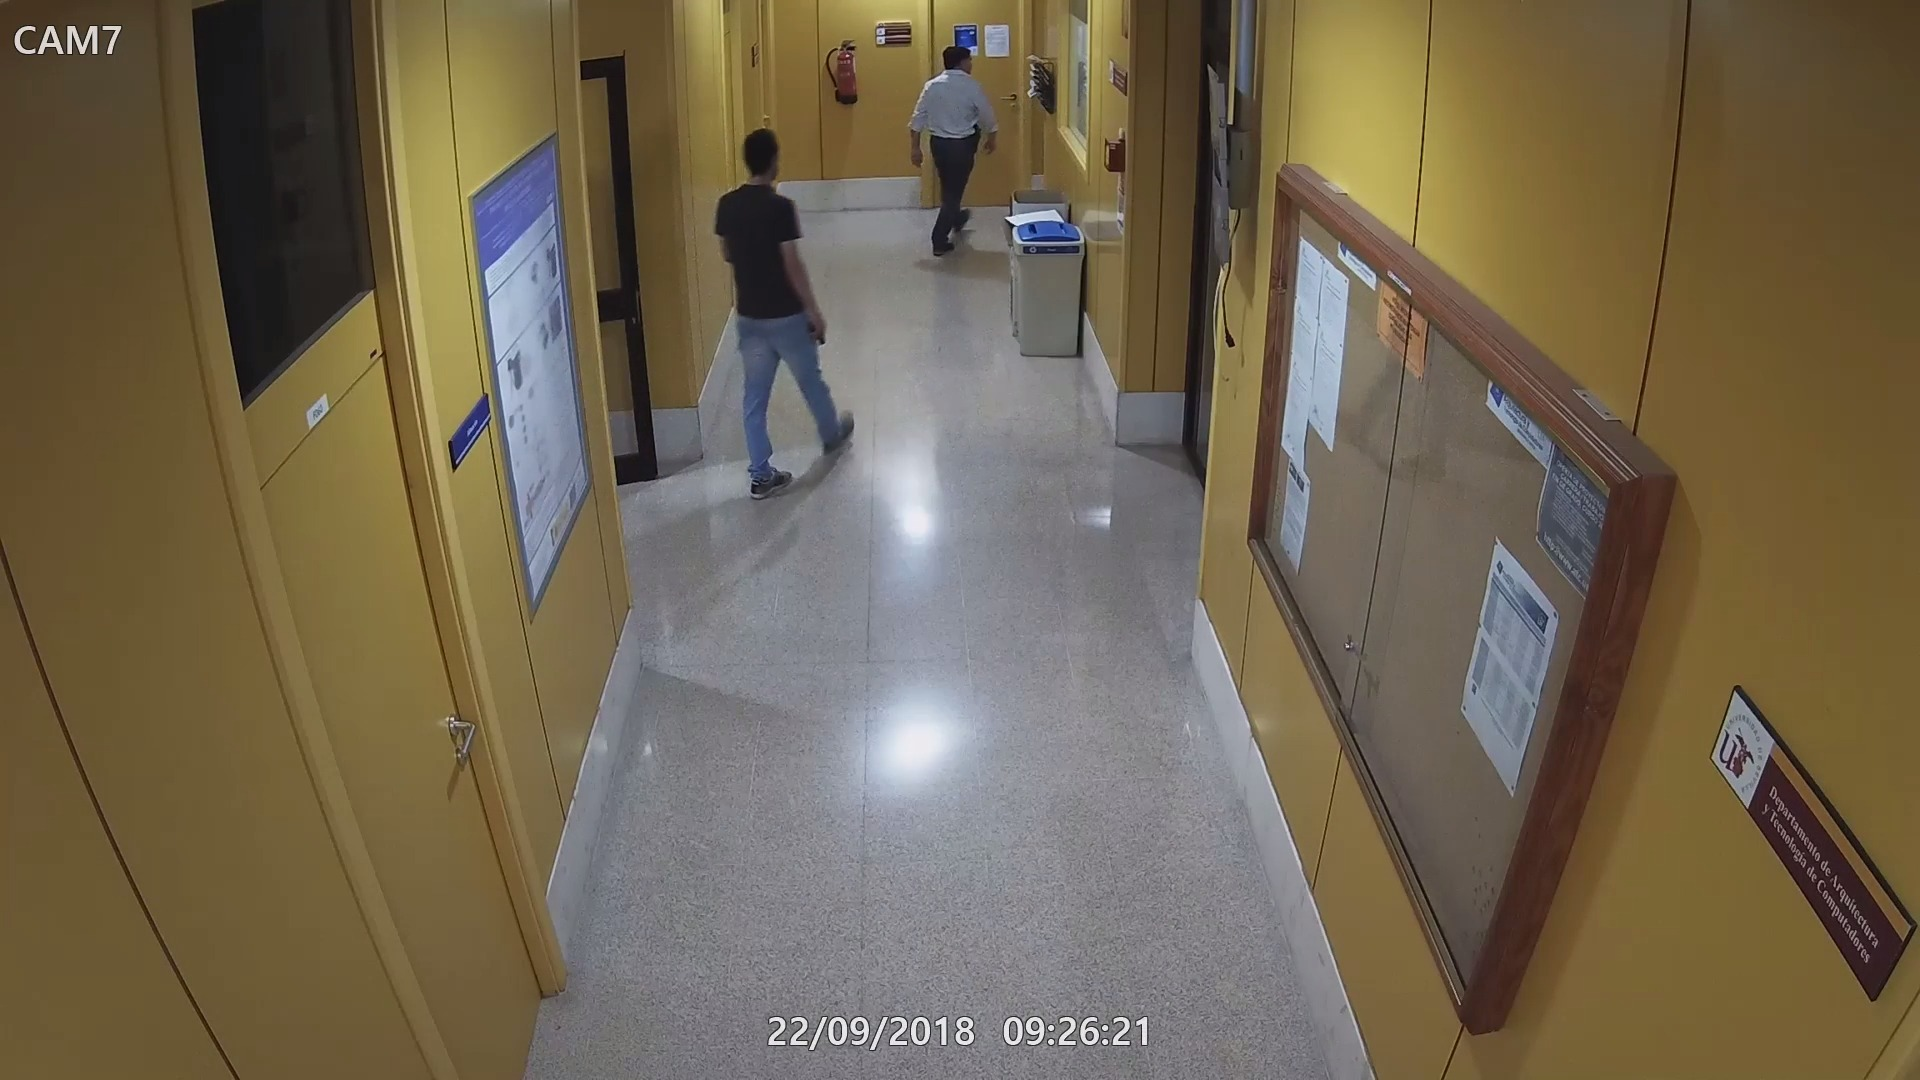Handgun: (803, 314, 829, 347), (971, 120, 982, 154)
